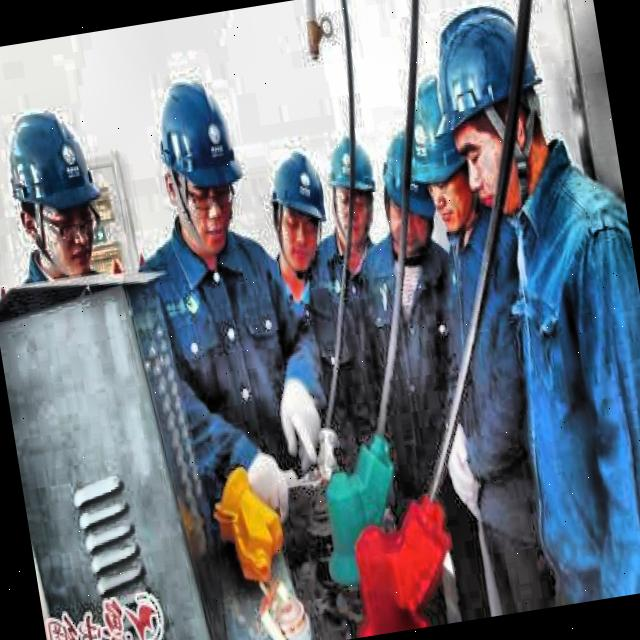helmet: (426, 0, 551, 215), (0, 91, 117, 299), (144, 61, 256, 266), (396, 70, 478, 240), (260, 142, 338, 282), (373, 133, 442, 264), (324, 134, 382, 246)
